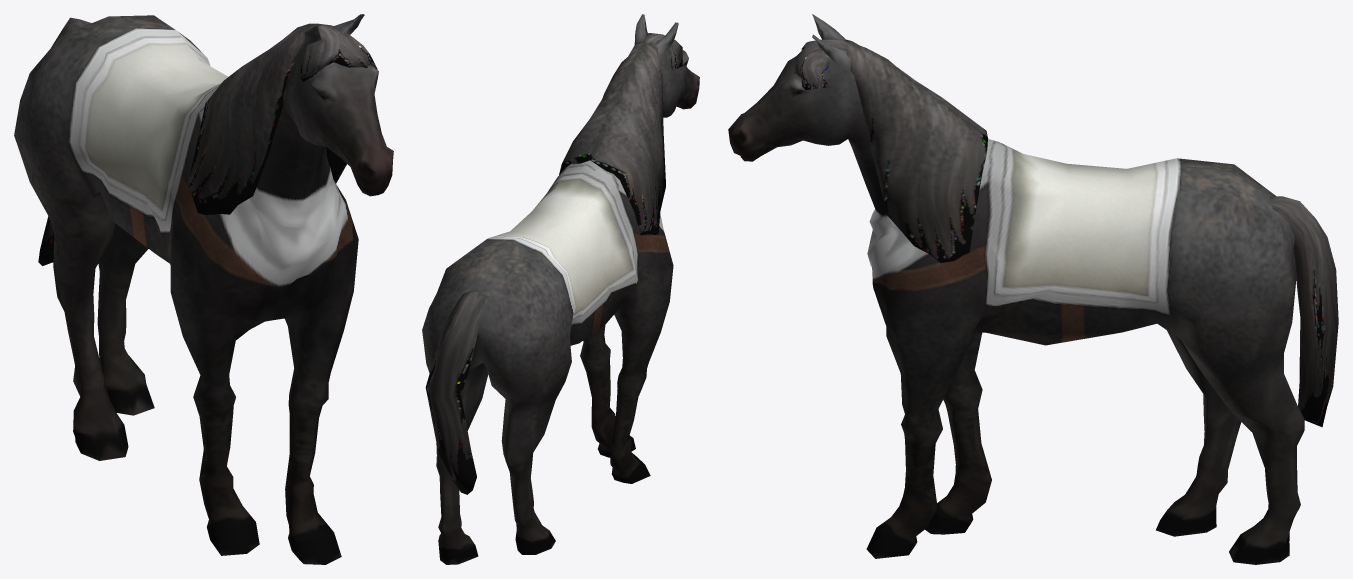
The model's file is body-base.glb.
The picture shows the model from 3 angles, left to right: view 1: azimuth 30°, elevation 25°; view 2: azimuth 150°, elevation 25°; view 3: azimuth 270°, elevation 25°; orthographic projection. The views are drawn at different scales.
Bounding box in the file's own units: 0.8074 × 2.51 × 2.68.
Materials: 1 (1 with a texture image).
